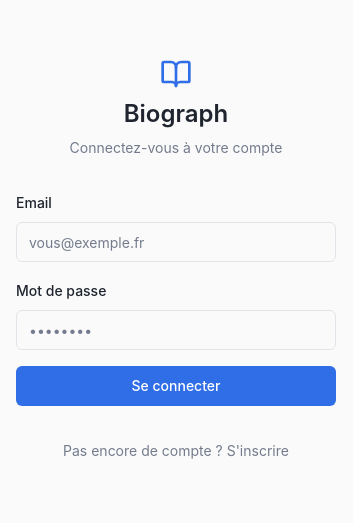
Test: Auth page › toggles between login and signup
The width and height of the screenshot is (353, 523).
Check: the text "Connectez-vous à votre compte" is shown, box x1=70 y1=139 x2=282 y2=156
Click toggle
Click the button "Pas encore de compte ? S'inscrire".
click(176, 451)  # box x1=63 y1=441 x2=289 y2=461
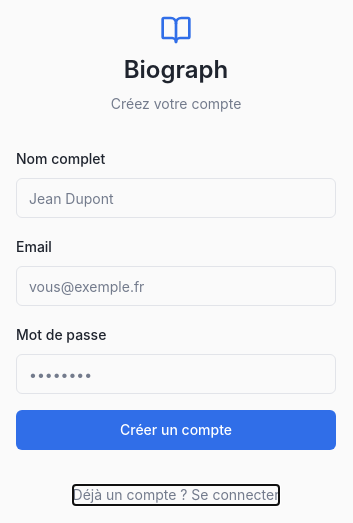
Check: the text "Créez votre compte" is shown, box x1=111 y1=95 x2=241 y2=112
Check: the field labelled "Nom complet" is shown, box x1=16 y1=178 x2=336 y2=218
